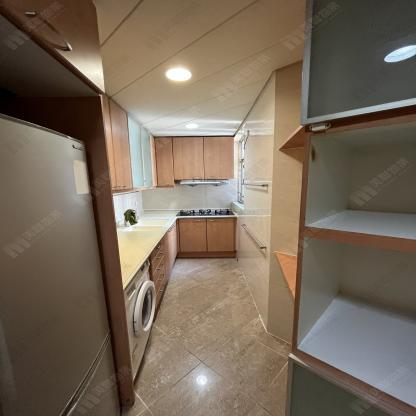Cupboard: (156, 136, 235, 186), (178, 218, 241, 257)
Exhaust Hood: (181, 180, 232, 187)
Fridge: (1, 115, 123, 415)
Stove: (177, 208, 238, 217)
